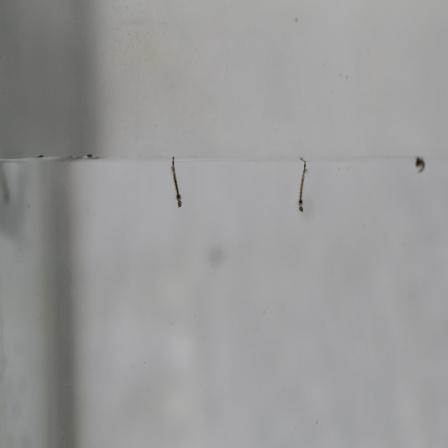Jentik-Nyamuk: (167, 157, 185, 212), (294, 158, 308, 216), (411, 153, 427, 173)
